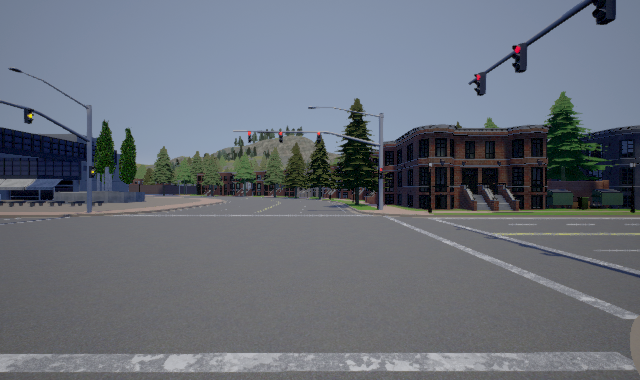traffic_light: (592, 0, 616, 25), (512, 43, 527, 73), (474, 72, 486, 96), (24, 108, 34, 124), (89, 166, 95, 178), (279, 131, 283, 143), (379, 168, 383, 179), (317, 132, 321, 143), (248, 131, 251, 143)
